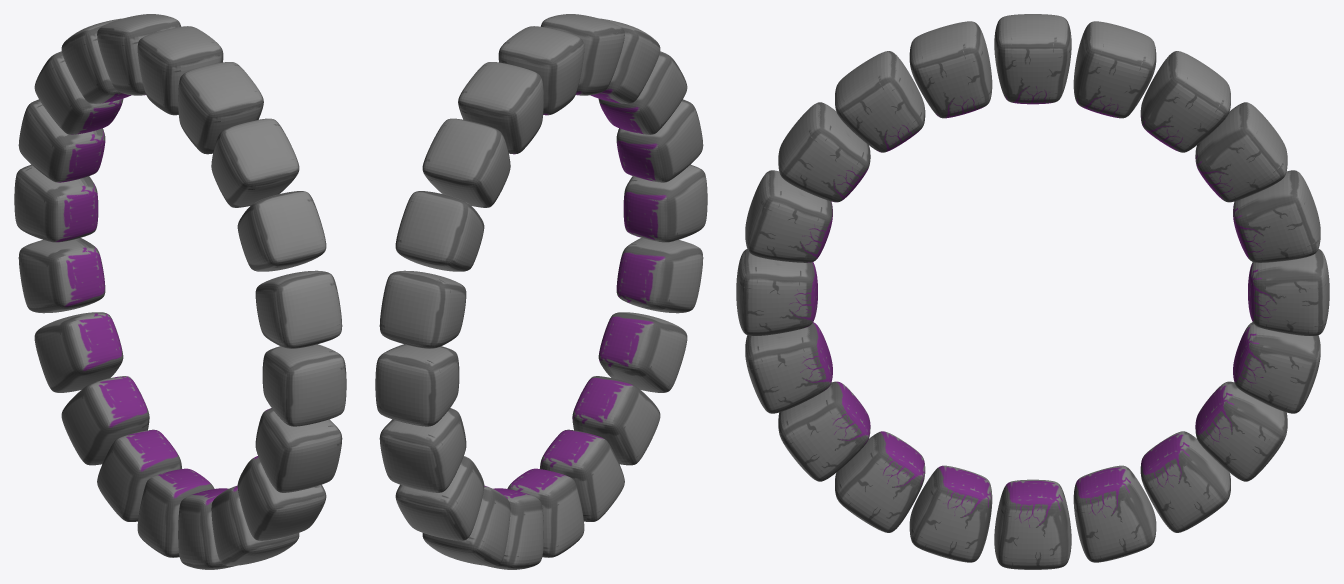
The model's file is Portal.fbx.
The picture shows the model from 3 angles, left to right: view 1: azimuth 30°, elevation 25°; view 2: azimuth 150°, elevation 25°; view 3: azimuth 270°, elevation 25°; orthographic projection. The views are drawn at different scales.
Visible parts, largest first — view 1: Cube; view 2: Cube; view 3: Cube.
Boxes of the visible parts, x1=… form: Cube: x1=14, y1=14, x2=346, y2=569; Cube: x1=375, y1=14, x2=707, y2=569; Cube: x1=736, y1=14, x2=1329, y2=569.
Bounding box in the file's own units: 69.04 × 529 × 529.
1 material, 1 textured.
